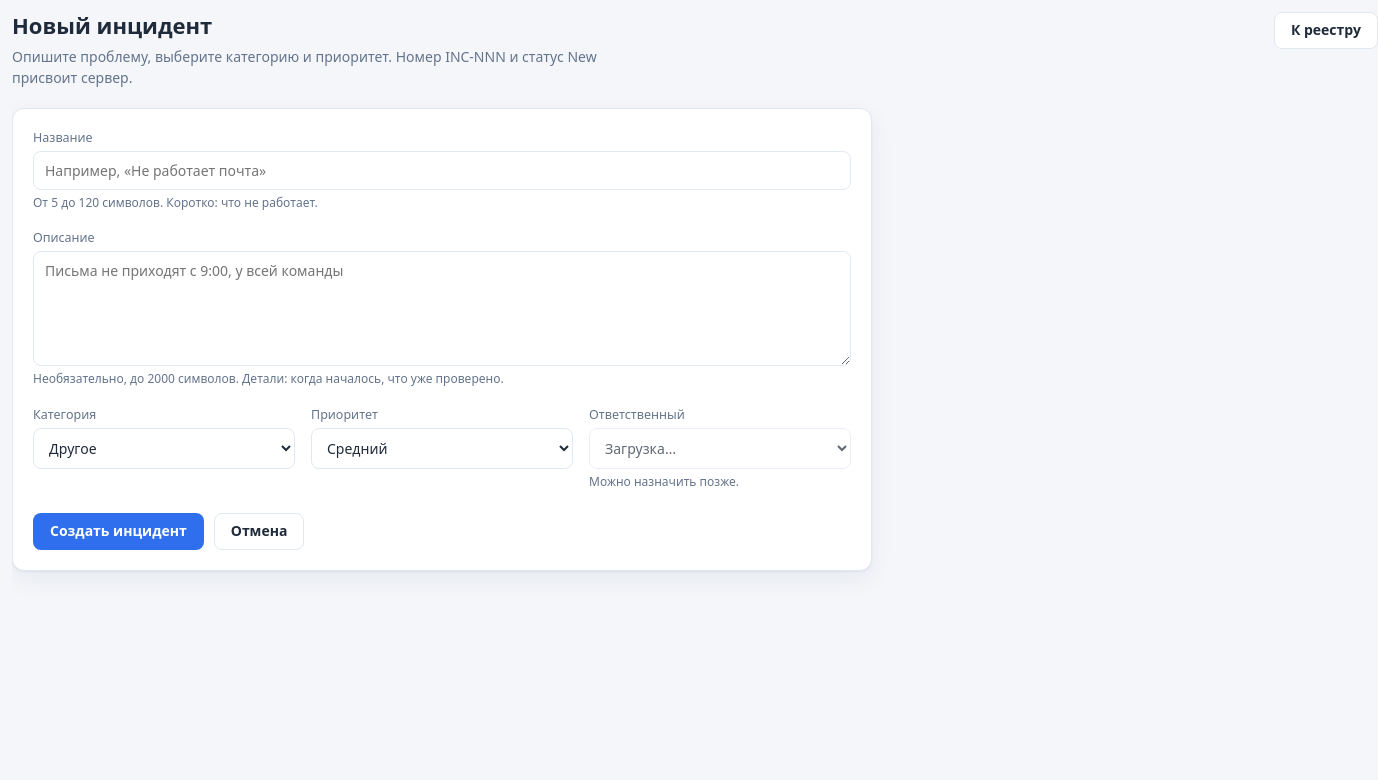
Test: IncidentCreatePage — форма создания › блокирует отправку при коротком title и показывает ошибку поля
The image size is (1378, 780).
Type "abc" into the field labelled "Название". click: (442, 170)
box: left=33, top=150, right=851, bottom=190
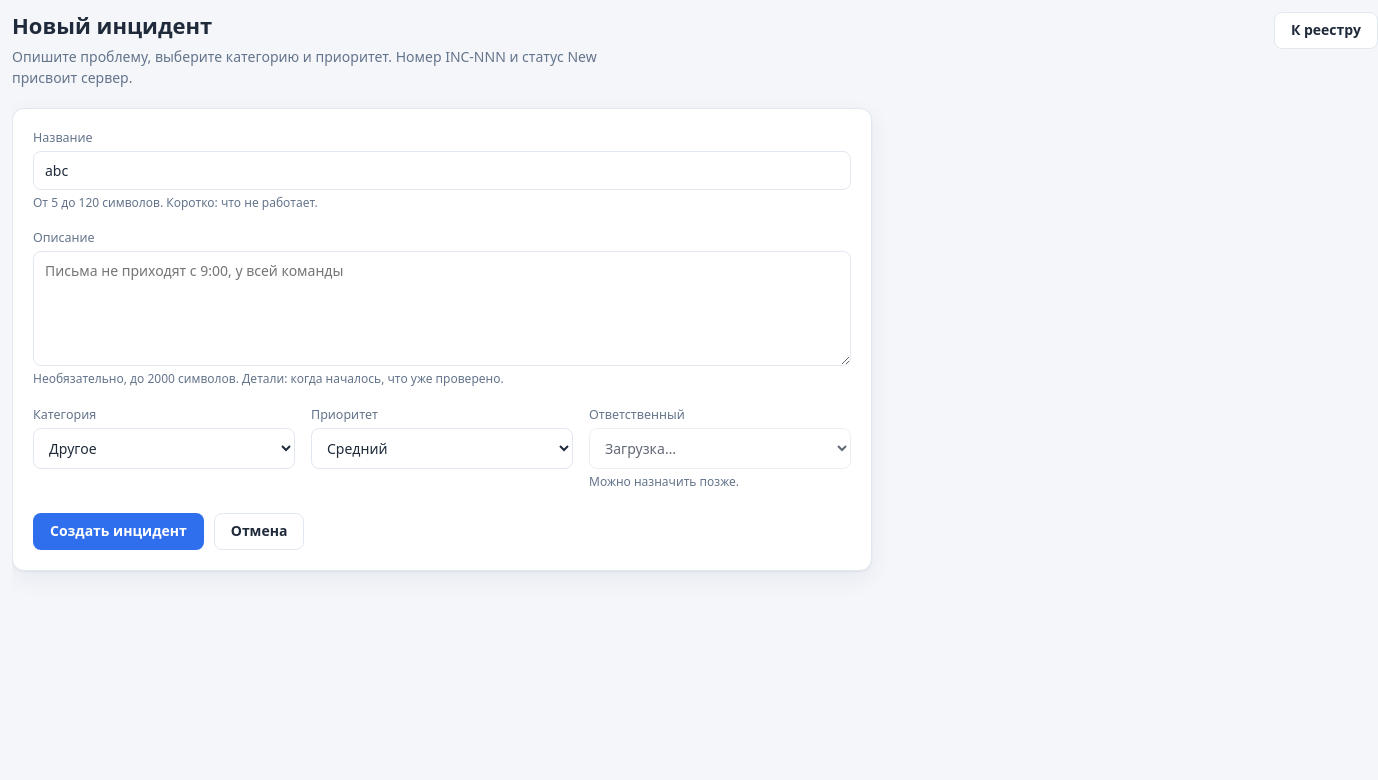
Click the button "Создать инцидент". click: (118, 531)
box: left=33, top=513, right=204, bottom=550
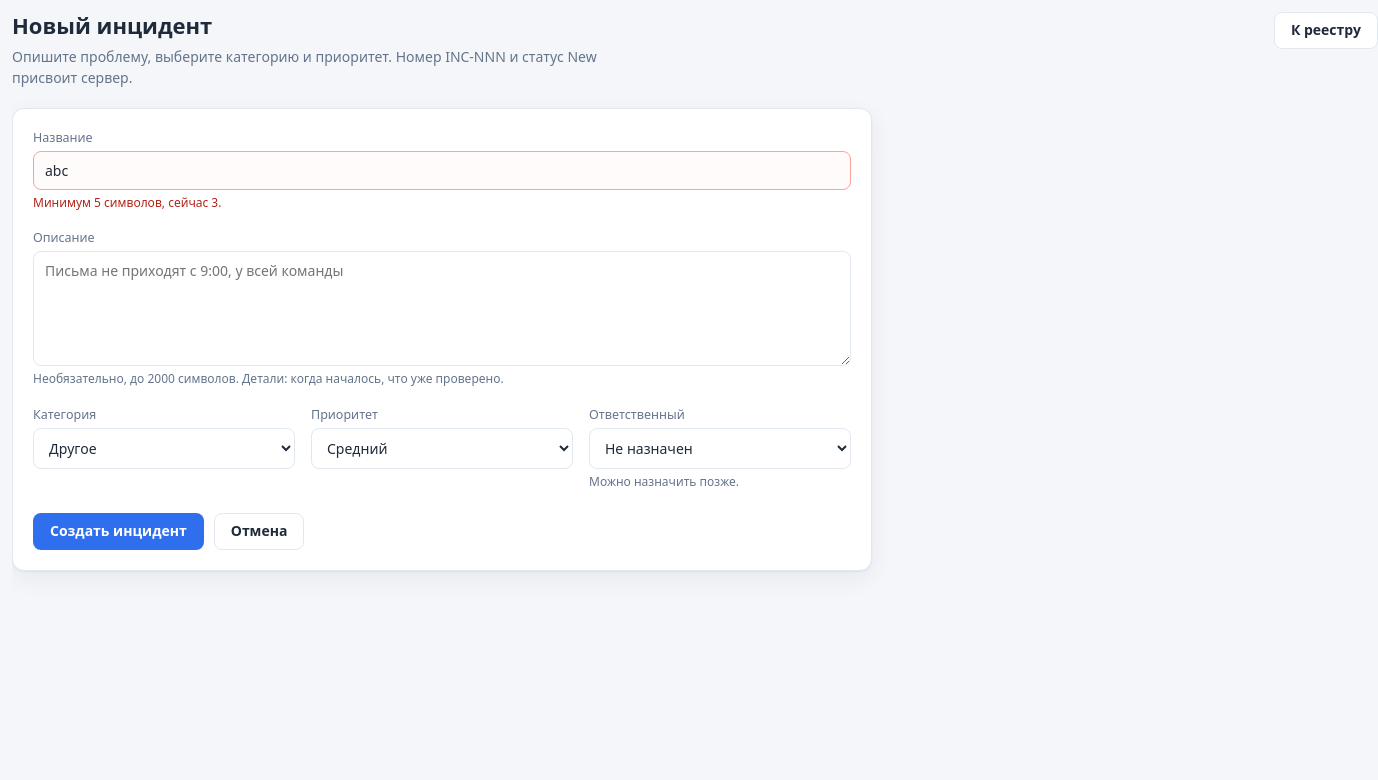
Check: the text "Минимум 5 символов, сейчас 3." is shown, box left=33, top=194, right=221, bottom=210
